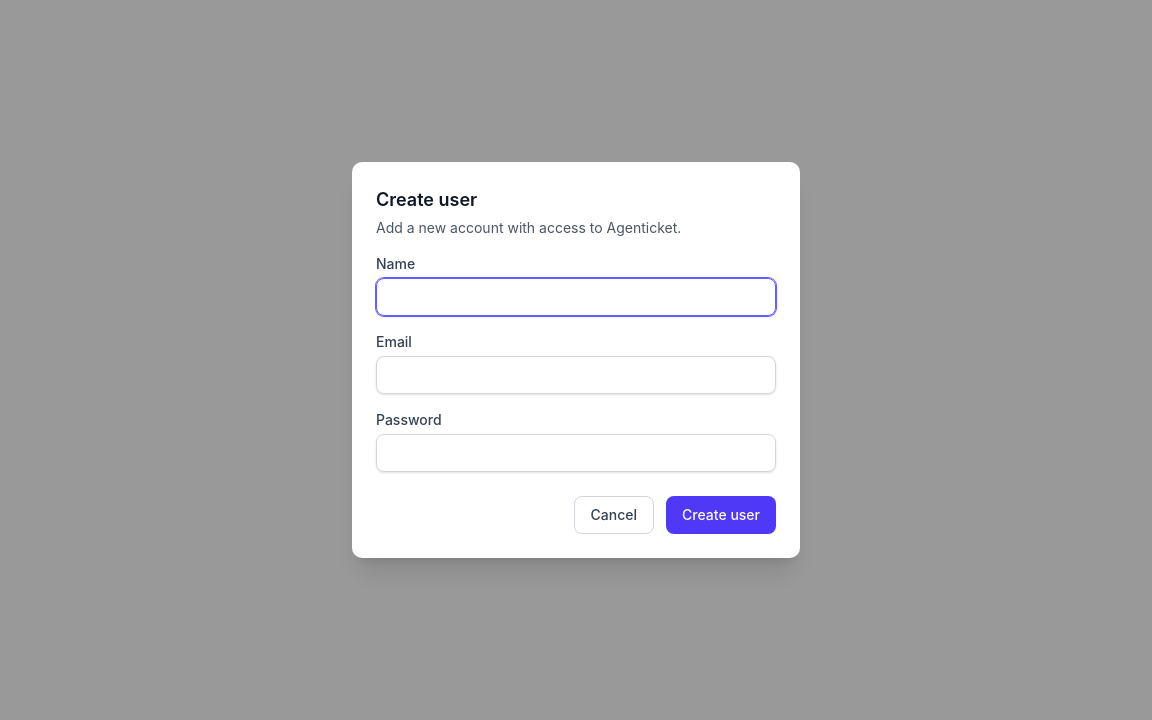
Test: NewUserModal › rejects an invalid email and a too-short password
The image size is (1152, 720).
Step 1. Type "Ada Lovelace" into the field labelled "Name" → (576, 297), box [376,278,776,316]
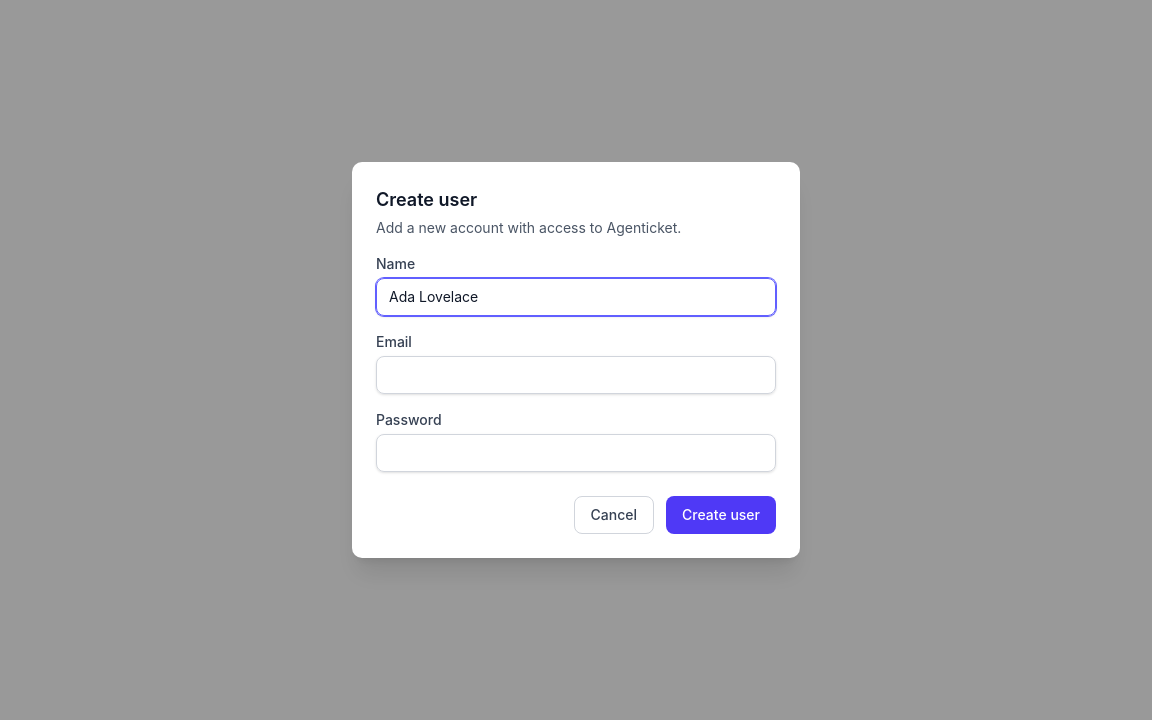
Step 2. Type "not-an-email" into the field labelled "Email" → (576, 375), box [376,356,776,394]
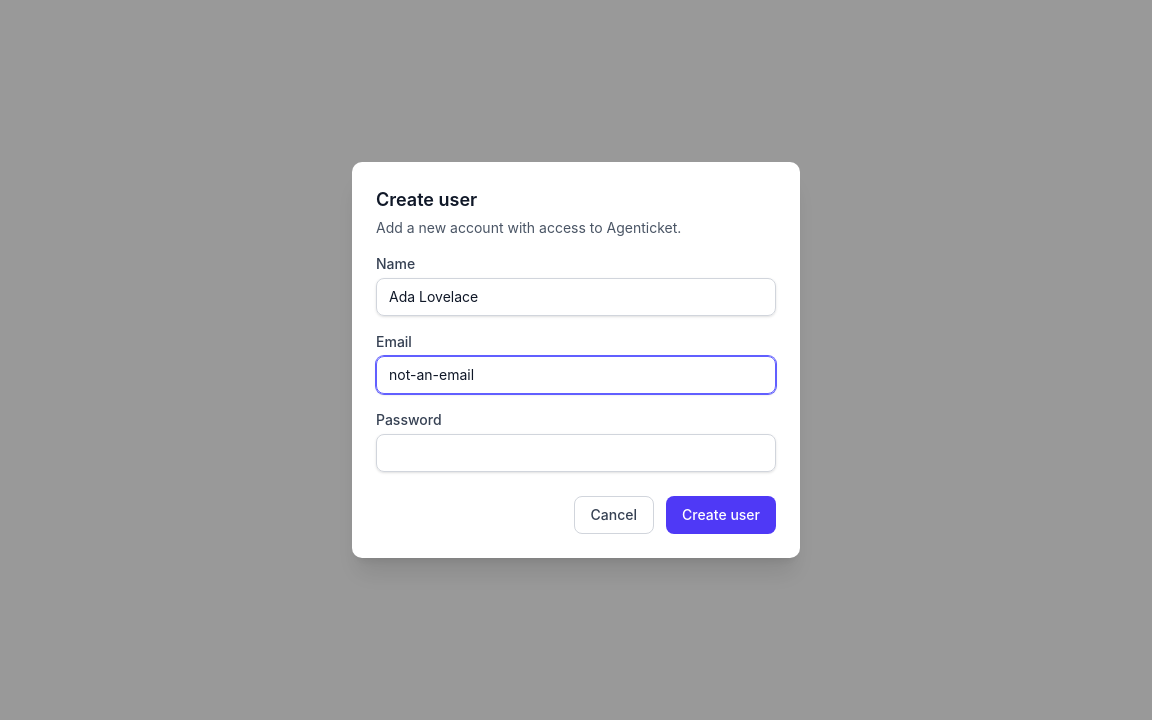
Step 3. Type "short" into the password field labelled "Password" → (576, 453), box [376,434,776,472]
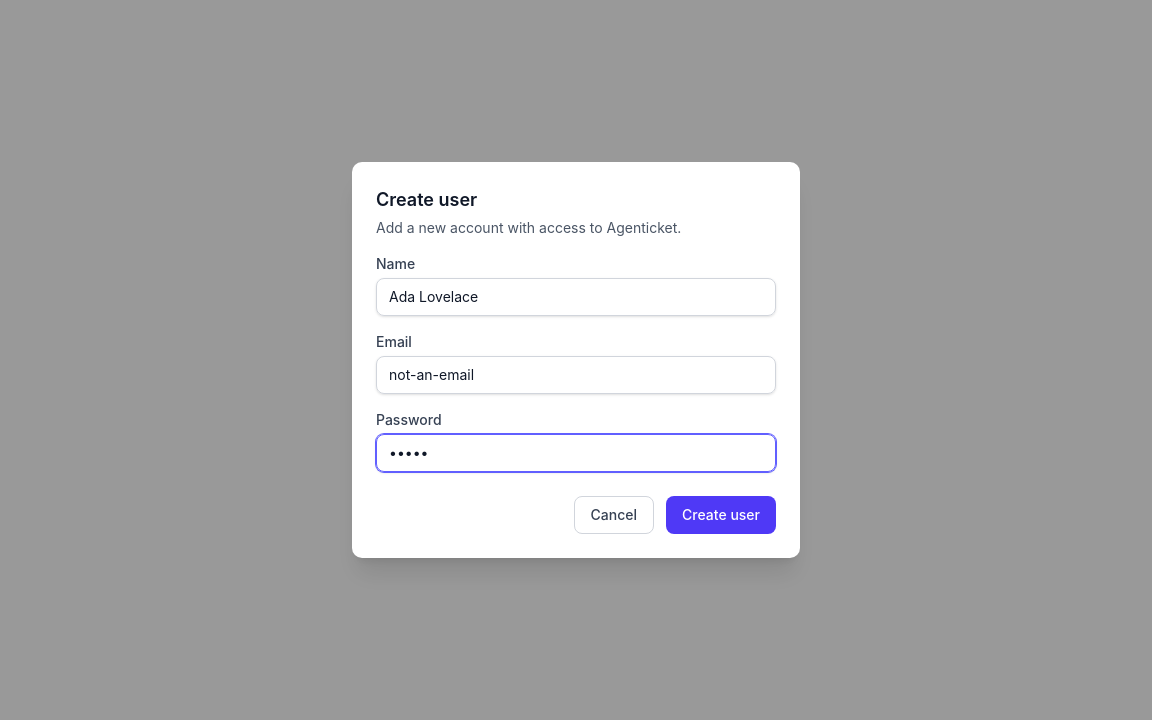
Step 4. Click the button "Create user" → (721, 515), box [666,496,776,534]
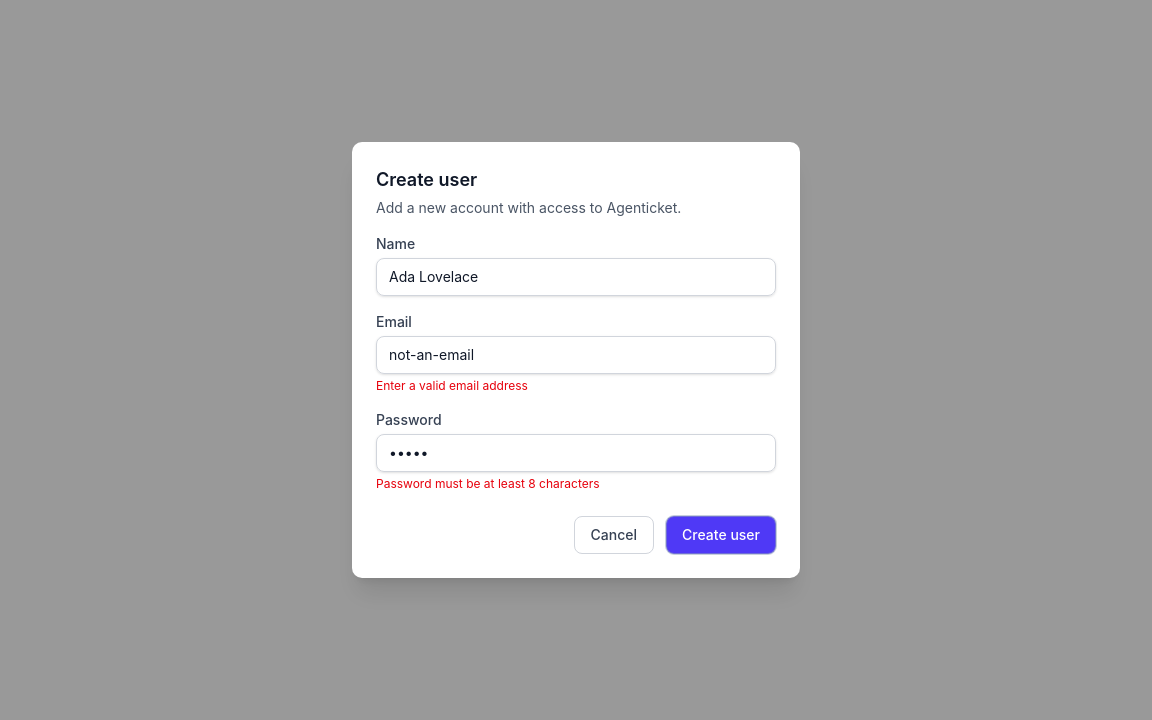
expect the text "Enter a valid email address" is shown: met, box [376,378,528,393]
expect the text "Password must be at least 8 characters" is shown: met, box [376,476,600,491]
